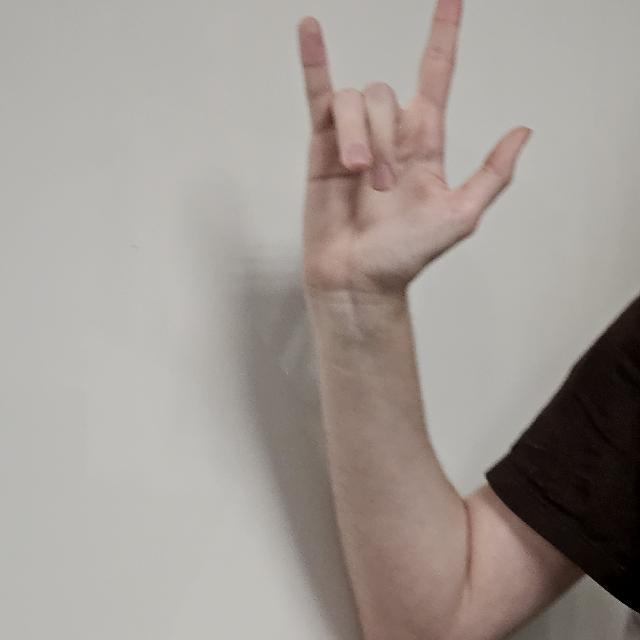Cima: (293, 1, 531, 306)
